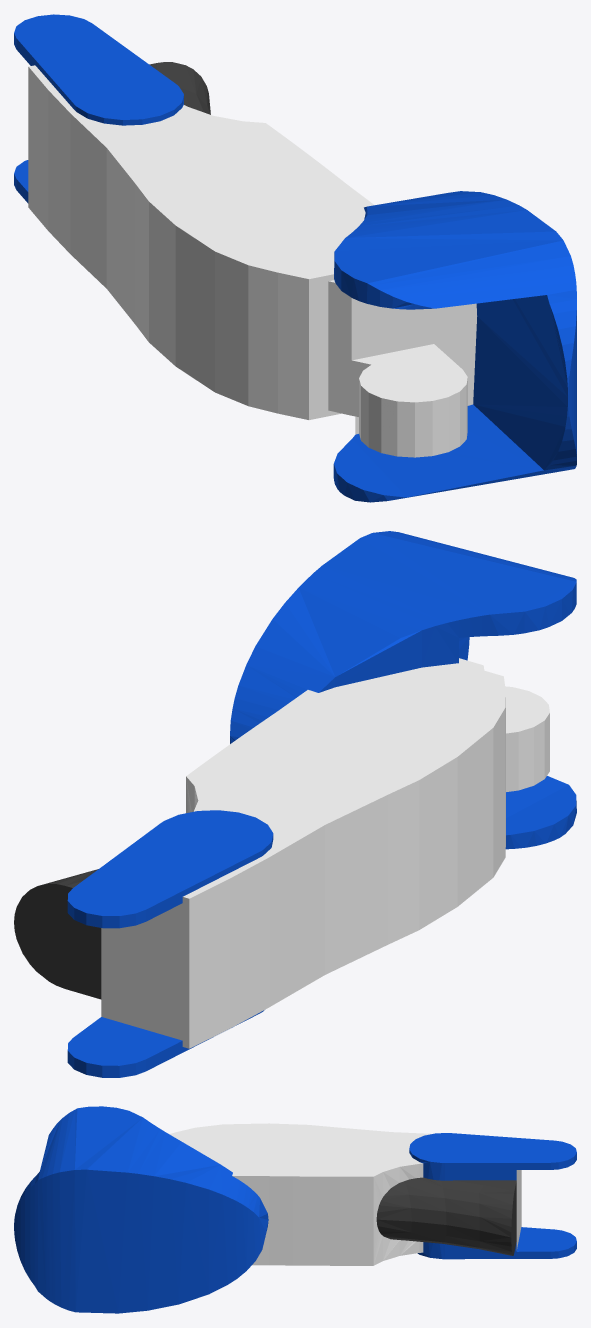
Rendered from L_KNEE_P_LINK_mesh.dae.
3 views of the same model, one above another, from view 1: azimuth 30°, elevation 25°; view 2: azimuth 150°, elevation 25°; view 3: azimuth 270°, elevation 25° (orthographic). The views are drawn at different scales.
Parts seen in each view (by area): view 1: L_KNEE_P_LINK (×3); view 2: L_KNEE_P_LINK (×3); view 3: L_KNEE_P_LINK (×3).
Part boxes in pixels (box(x1,y1,x2,y2)): L_KNEE_P_LINK (×3): box(14, 14, 576, 502); L_KNEE_P_LINK (×3): box(14, 531, 576, 1077); L_KNEE_P_LINK (×3): box(14, 1106, 576, 1313).
Size of the model in its own units: 0.1324 by 0.12 by 0.4247.
